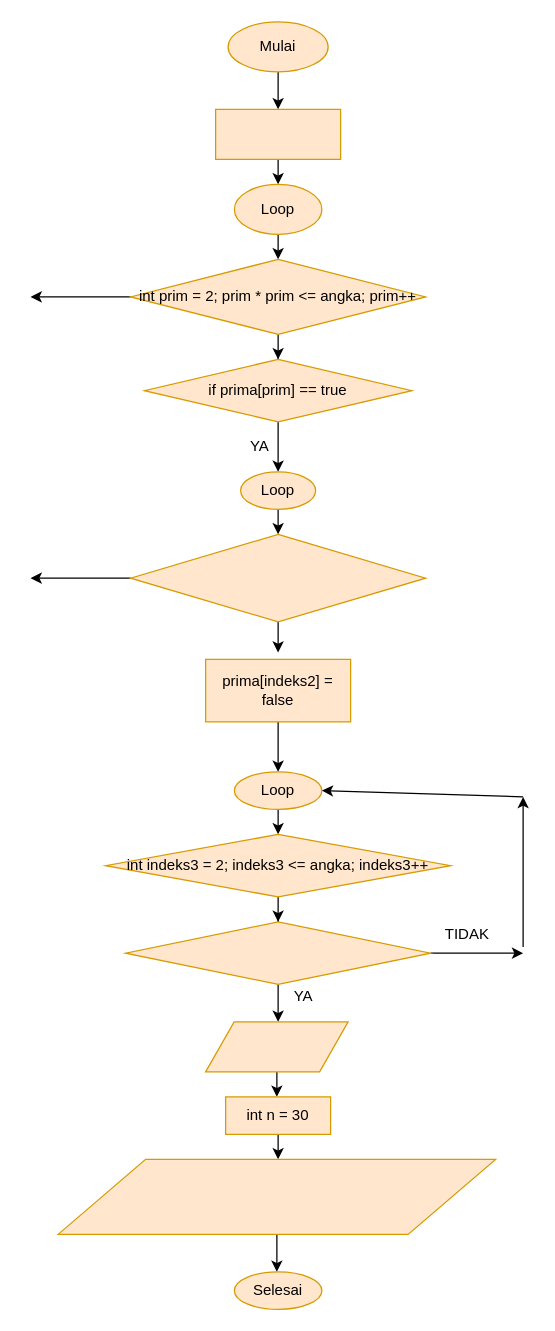
This 555x1331 diagram has some shape labels left out. The shapes that lost their labels are listed below. From the top down, each one's centre as x and y in pixels, then its label:
the point at 277,133: boolean prima[]
the point at 277,577: int indeks2 = prim * 2 ; indeks2 <= angka; indeks2 += prim
the point at 277,952: if prima[indeks3] == true
the point at 276,1046: Print indeks3
the point at 276,1196: Print angka prima yg lebih kecil dari angka lain
